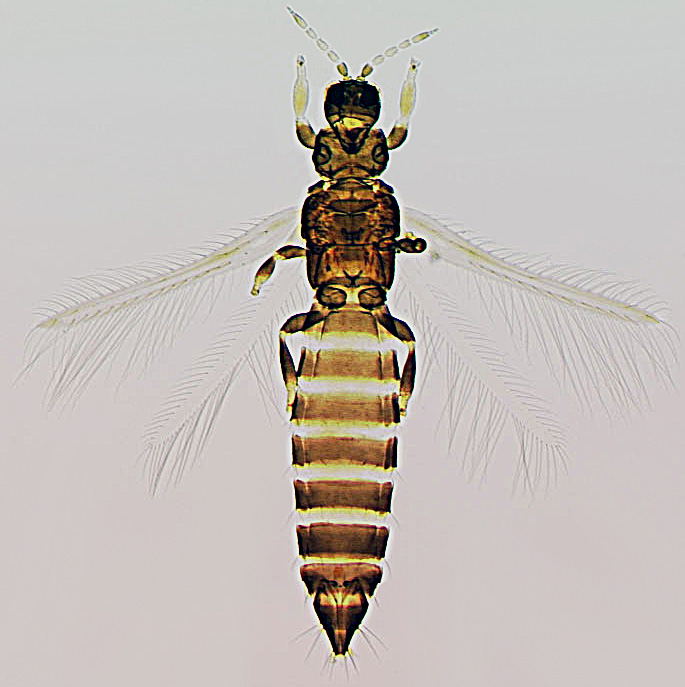Thripidae: (23, 10, 685, 670)
